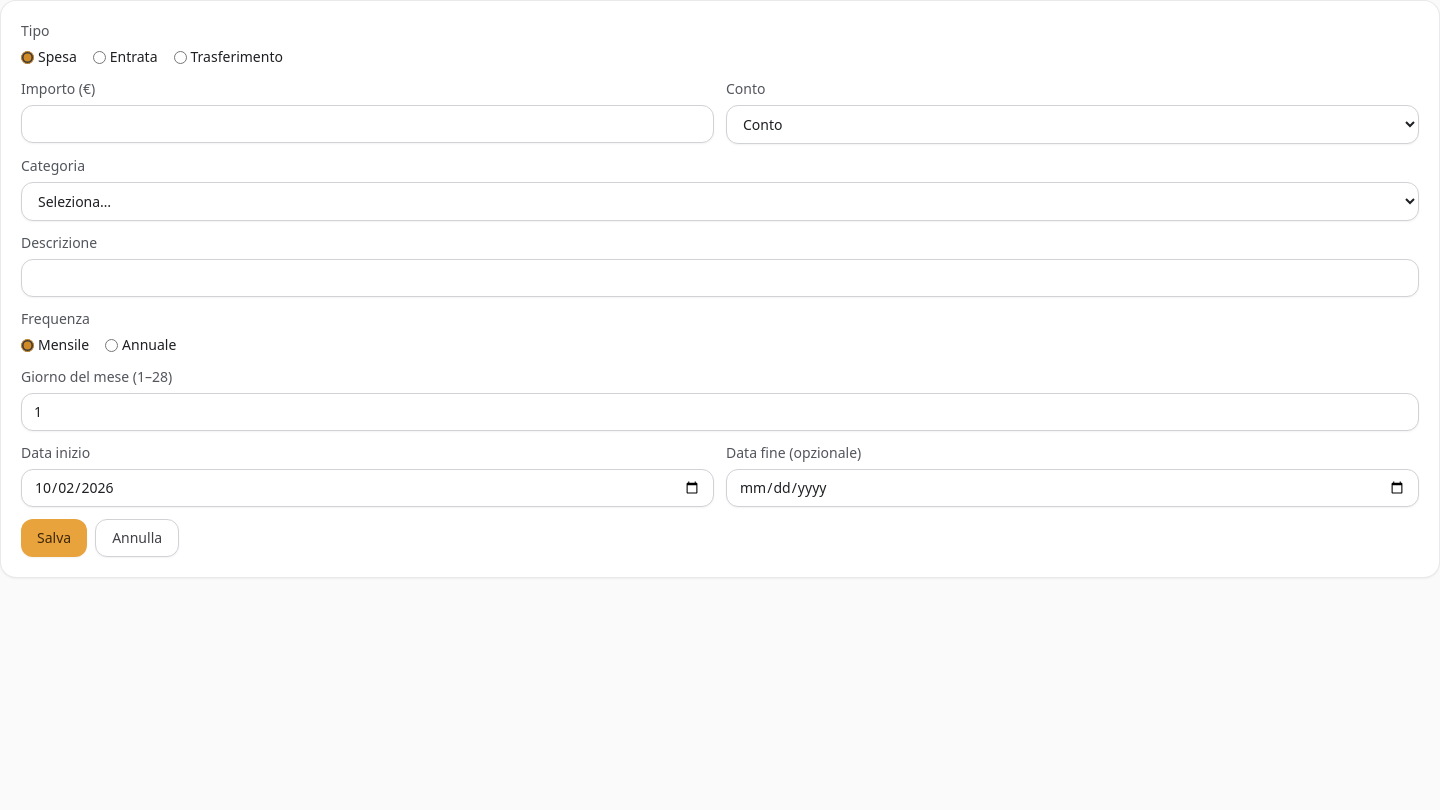
Test: RecurringRuleForm › shows validation error when amount is missing
Type "Test" into the field labelled "Descrizione".
click(720, 278); type("Test")  # box [21,259,1419,297]
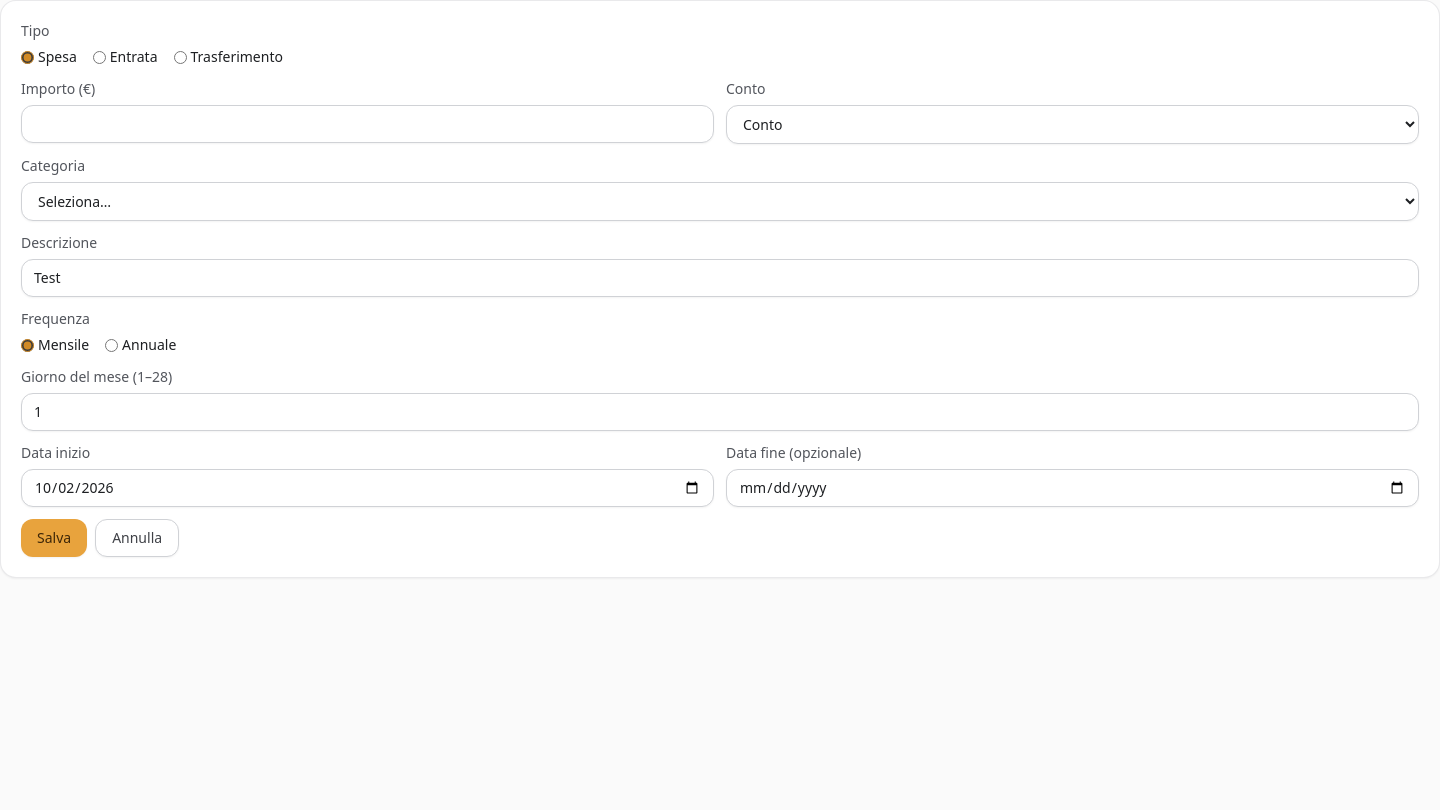
Select "🏠 Casa" in the dropdown labelled "Categoria" at {"x": 720, "y": 202}, box [21,182,1419,221]
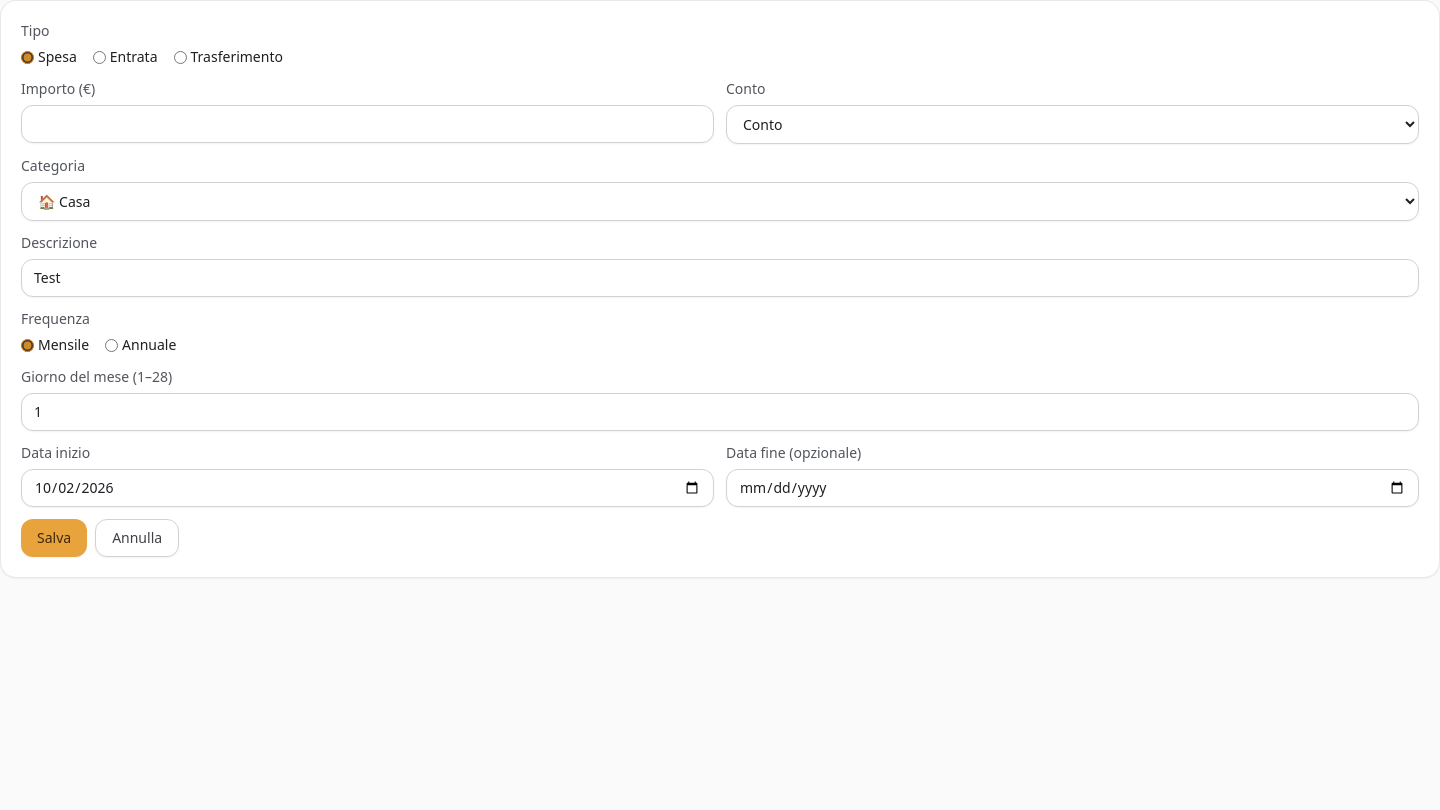
Click the button "Salva".
click(54, 538)  # box [21,519,87,557]
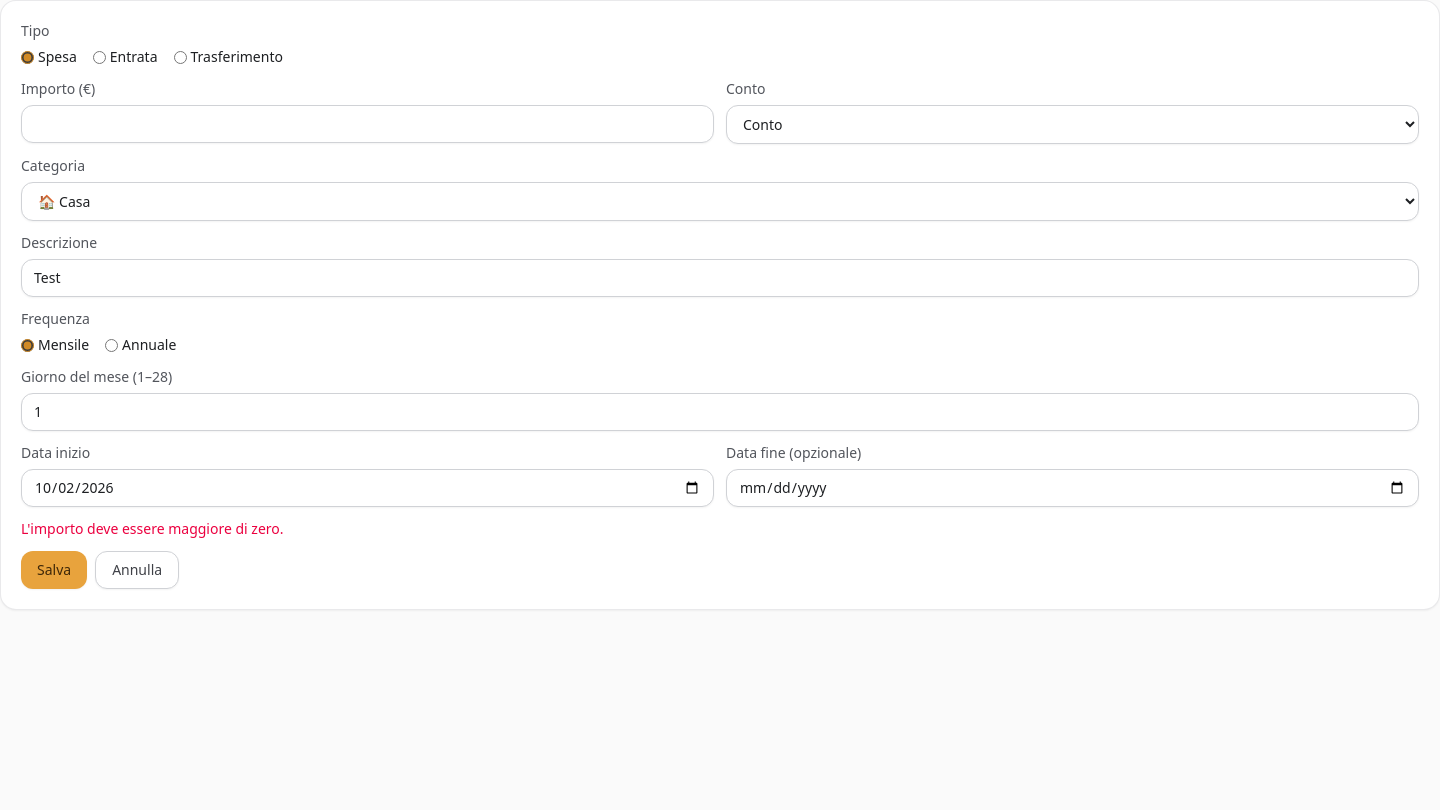
Result: the text "L'importo deve essere maggiore di zero." is shown at [21,519,284,538]
